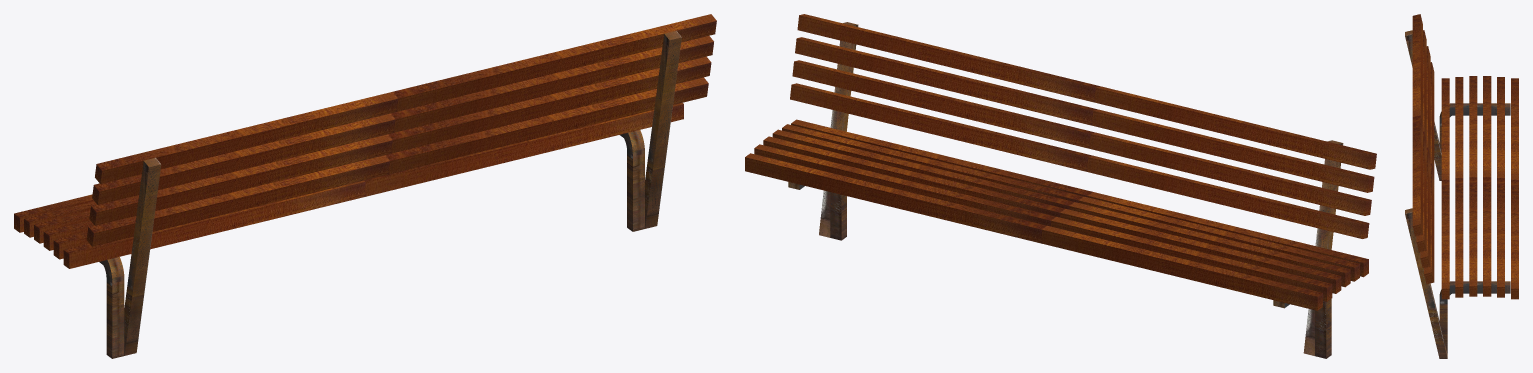
The picture shows the model from 3 angles, left to right: view 1: azimuth 30°, elevation 25°; view 2: azimuth 150°, elevation 25°; view 3: azimuth 270°, elevation 25°; orthographic projection. The views are drawn at different scales.
Parts seen in each view (by area): view 1: mesh1_mesh1-geometry, mesh5_mesh5-geometry, mesh3_mesh3-geometry; view 2: mesh1_mesh1-geometry, mesh3_mesh3-geometry, mesh5_mesh5-geometry; view 3: mesh1_mesh1-geometry, mesh5_mesh5-geometry, mesh3_mesh3-geometry.
Boxes of the visible parts, bbox=[...] form: mesh1_mesh1-geometry: bbox=[24, 14, 716, 268]; mesh5_mesh5-geometry: bbox=[99, 31, 681, 358]; mesh3_mesh3-geometry: bbox=[14, 194, 93, 232]; mesh1_mesh1-geometry: bbox=[754, 14, 1376, 301]; mesh3_mesh3-geometry: bbox=[745, 153, 1322, 310]; mesh5_mesh5-geometry: bbox=[788, 22, 1343, 358]; mesh1_mesh1-geometry: bbox=[1412, 14, 1504, 299]; mesh5_mesh5-geometry: bbox=[1405, 30, 1510, 358]; mesh3_mesh3-geometry: bbox=[1511, 78, 1518, 299].
Bounding box in the file's own units: 0.9305 × 0.3007 × 0.209.
